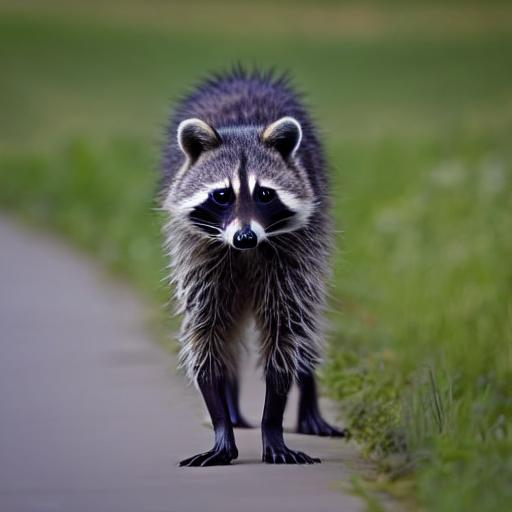raccoon: (139, 60, 349, 372)
